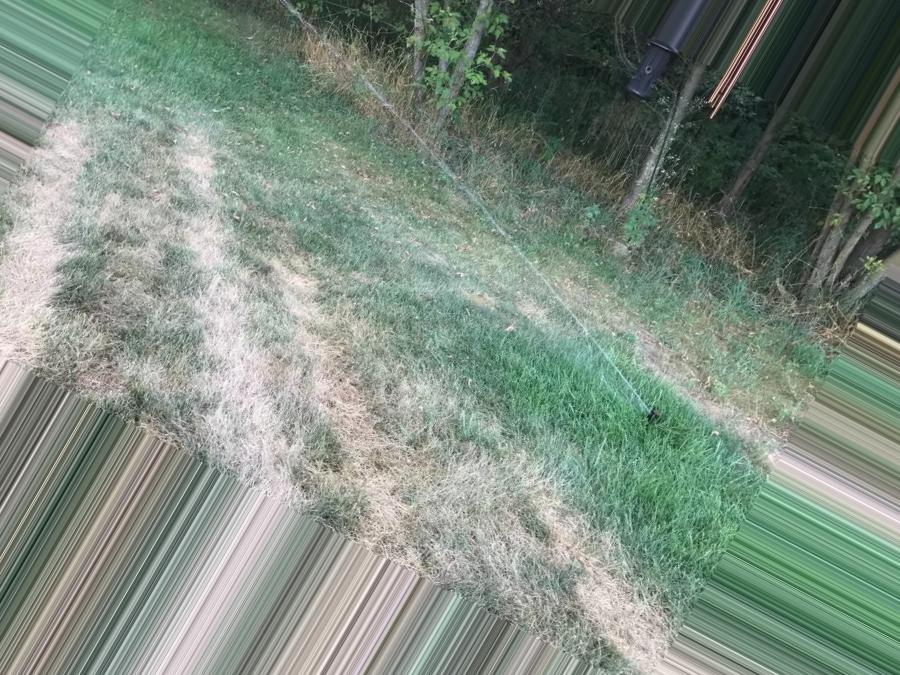patch: (139, 250, 394, 480), (373, 444, 600, 630), (37, 150, 139, 389), (442, 241, 598, 312)
